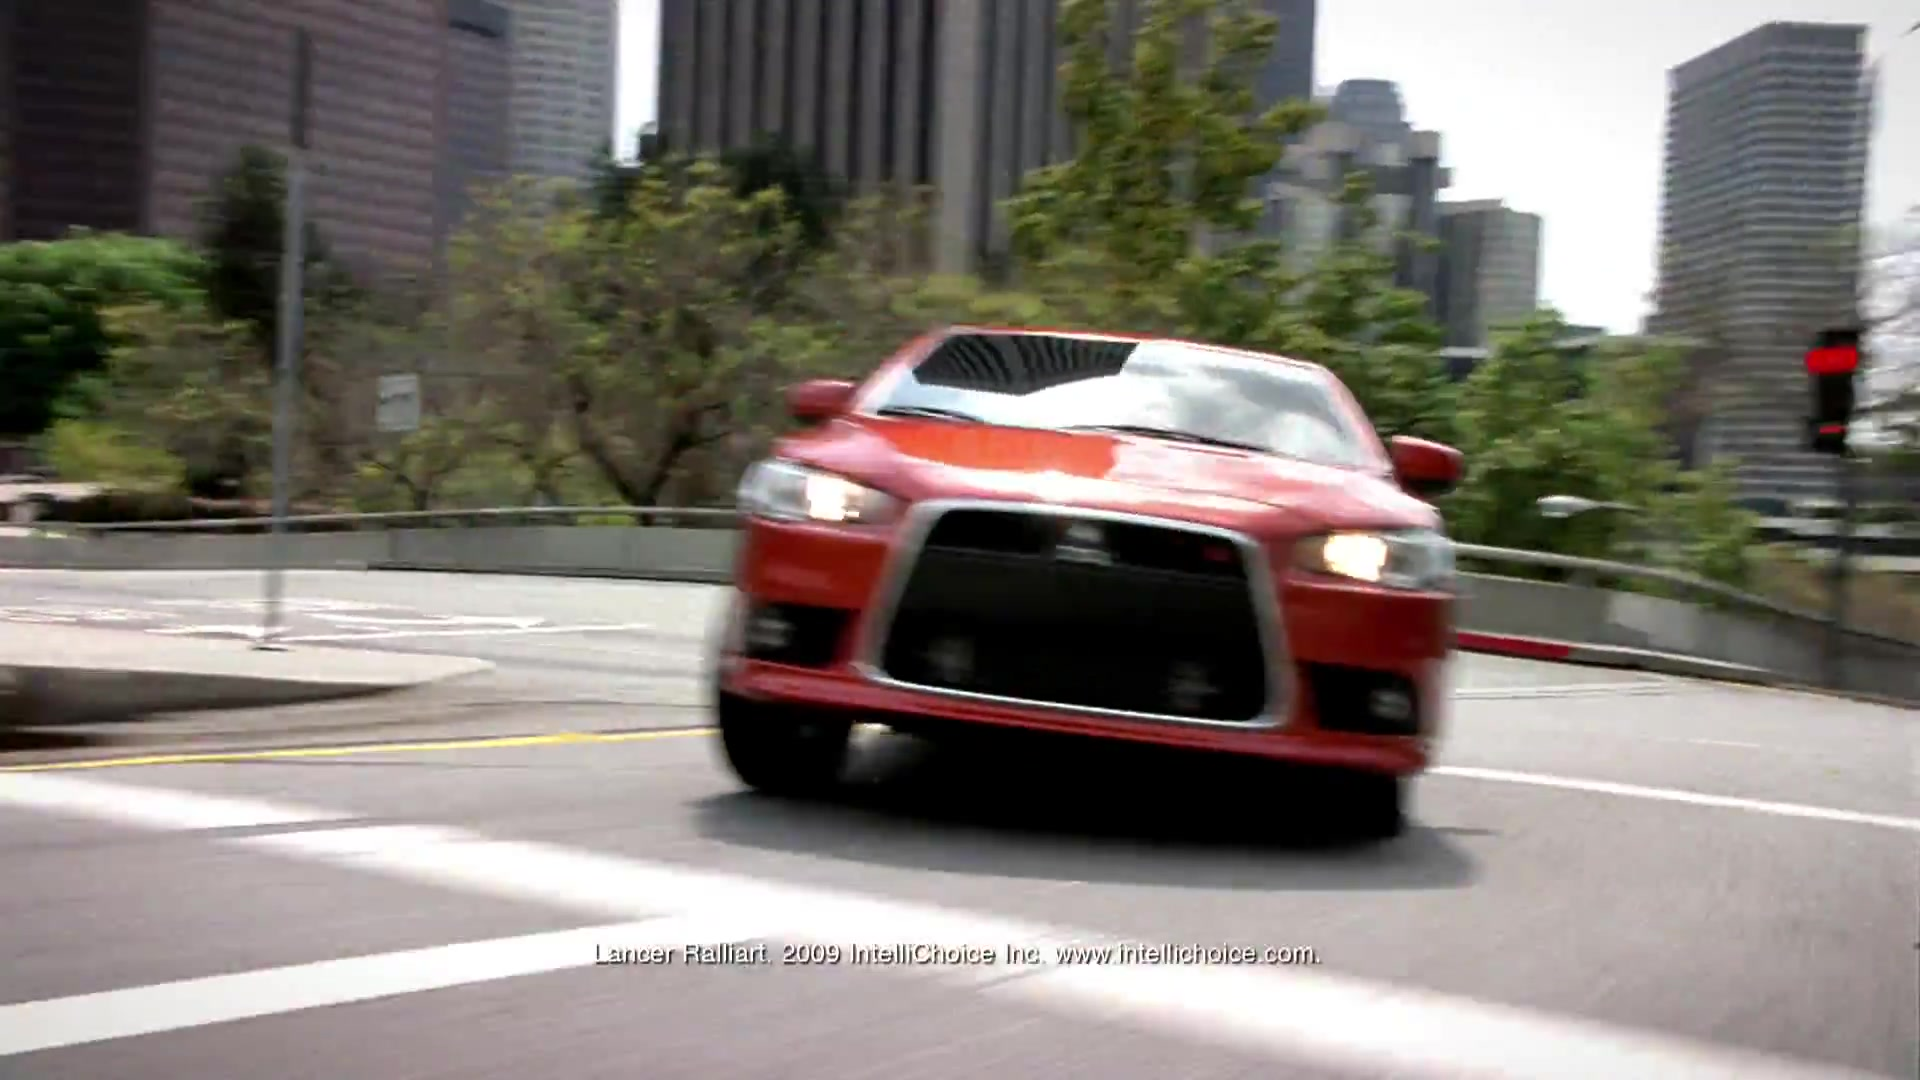car: (713, 314, 1484, 849)
